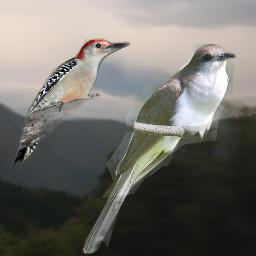Cuckoo: (81, 44, 236, 255)
Woodpecker: (13, 38, 130, 165)
